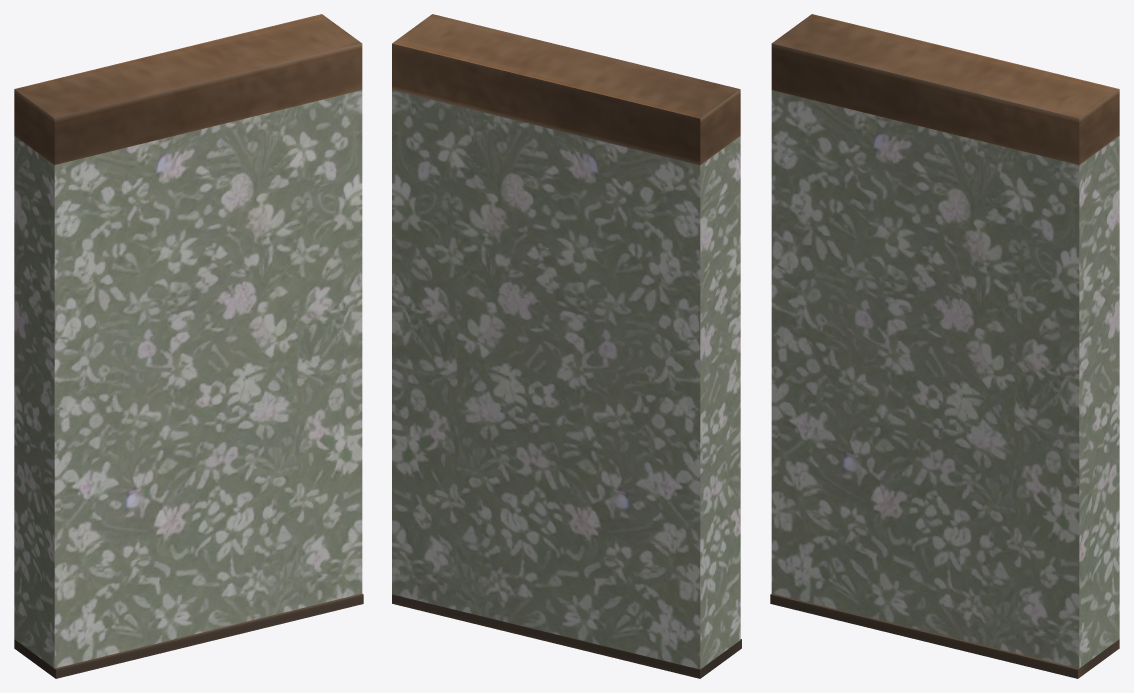
File: kitcentop02bab.fbx
The picture shows the model from 3 angles, left to right: view 1: azimuth 30°, elevation 25°; view 2: azimuth 150°, elevation 25°; view 3: azimuth 330°, elevation 25°; orthographic projection.
Parts seen in each view (by area): view 1: kitcentop02bab; view 2: kitcentop02bab; view 3: kitcentop02bab.
Part boxes in pixels (x1,y1,x2,y2): kitcentop02bab: [14, 14, 363, 678]; kitcentop02bab: [392, 14, 741, 678]; kitcentop02bab: [770, 14, 1119, 678].
Bounding box in the file's own units: 0.927 × 1.61 × 0.2174.
